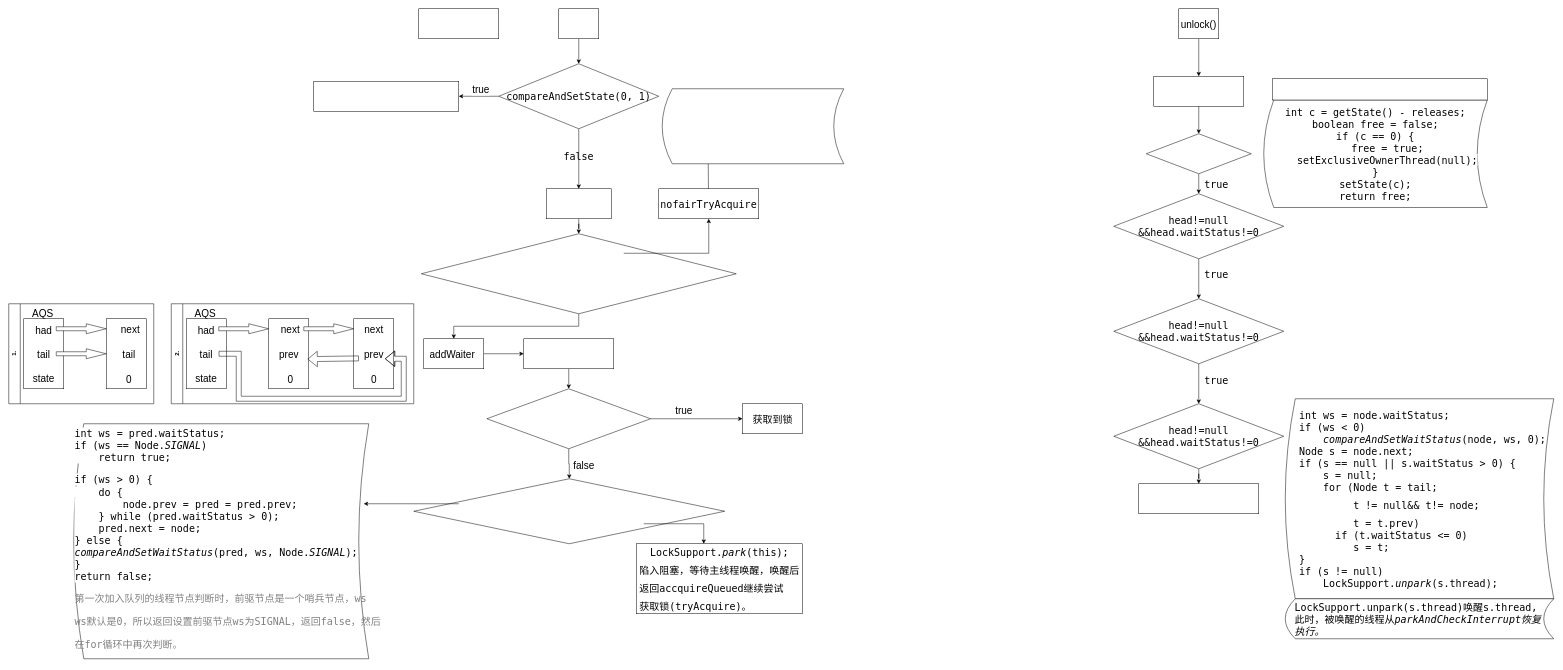
The diagram is 1563 pixels wide and 670 high, and some of its shapes have lost their labels. Here are the shapes that lost their labels. From the top down, the box of each, then its label:
(418, 8, 499, 39): ReentrantLock
(558, 8, 599, 39): lock()
(313, 81, 459, 111): setExclusiveOwnerThread
(1153, 76, 1244, 106): release(1)
(1272, 78, 1487, 100): tryRelease源码
(662, 88, 844, 164): 第一种情况：state为0，尝试设置state 为acquires，并设置主线程。 第二种情况：当前线程为主线程，将 state加上acquires
(1146, 133, 1251, 174): tryRelease(arg)
(546, 188, 611, 219): acquire(1)
(421, 233, 736, 314): !tryAcquire(arg) a cquireQueued(addWaiter(Node. EXCLUS IVE ), arg) )
(523, 338, 614, 369): accquireQueued
(486, 388, 651, 449): prev==head &&tryAcquire(arg)
(413, 478, 725, 544): shouldParkAfterFailedAcquire(pred,node) &&parkAndCheckInterrupt()
(1138, 483, 1259, 514): unparkSuccessor(head)
